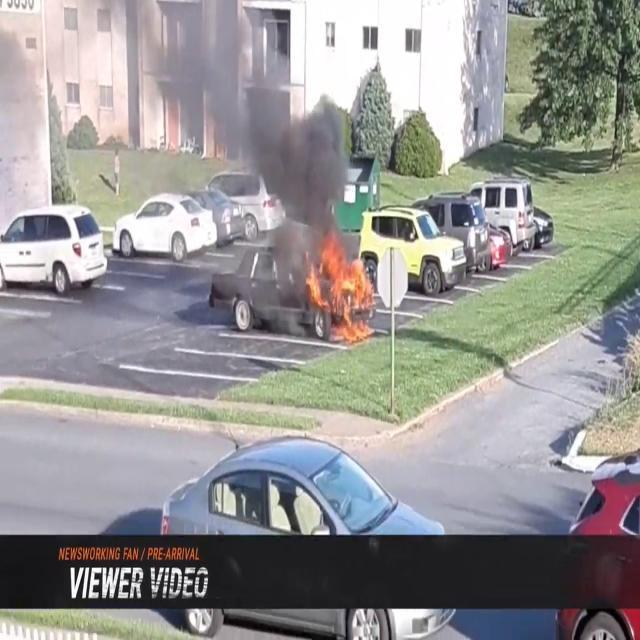Fire: (303, 235, 380, 338)
Smoke: (145, 2, 353, 235)
